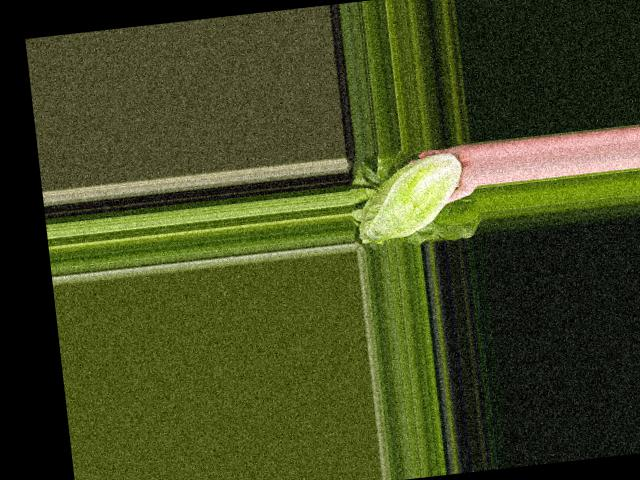lettuce: (350, 148, 470, 245)
